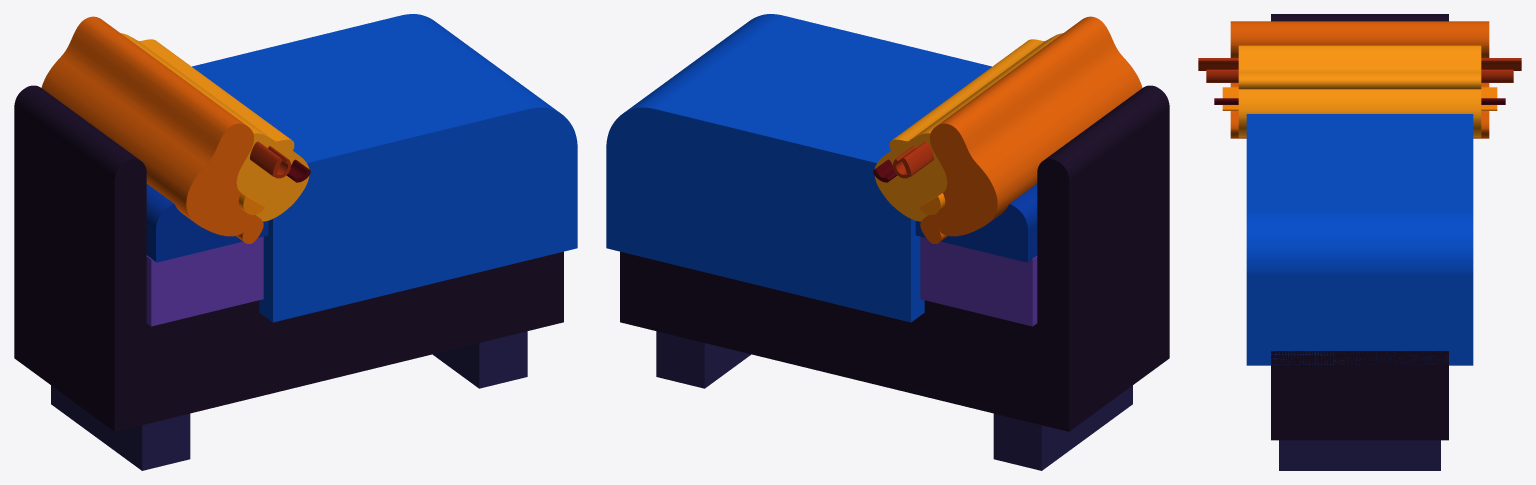
The picture shows the model from 3 angles, left to right: view 1: azimuth 30°, elevation 25°; view 2: azimuth 150°, elevation 25°; view 3: azimuth 270°, elevation 25°; orthographic projection. The views are drawn at different scales.
Visible parts, largest first — view 1: U+1F6CC_layer04_obj00, U+1F6CC_layer01_obj00, U+1F6CC_layer06_obj00, U+1F6CC_layer00_obj00, U+1F6CC_layer02_obj00, U+1F6CC_layer05_obj00, U+1F6CC_layer03_obj00, U+1F6CC_layer10_obj00; view 2: U+1F6CC_layer04_obj00, U+1F6CC_layer01_obj00, U+1F6CC_layer06_obj00, U+1F6CC_layer00_obj00, U+1F6CC_layer02_obj00, U+1F6CC_layer05_obj00, U+1F6CC_layer03_obj00, U+1F6CC_layer10_obj00; view 3: U+1F6CC_layer04_obj00, U+1F6CC_layer01_obj00, U+1F6CC_layer05_obj00, U+1F6CC_layer06_obj00, U+1F6CC_layer00_obj00, U+1F6CC_layer10_obj00, U+1F6CC_layer09_obj00, U+1F6CC_layer07_obj00, U+1F6CC_layer08_obj00.
Part boxes in pixels (left/top/right/bottom): U+1F6CC_layer04_obj00: left=192, top=14, right=577, bottom=322; U+1F6CC_layer01_obj00: left=14, top=85, right=563, bottom=431; U+1F6CC_layer06_obj00: left=41, top=16, right=263, bottom=243; U+1F6CC_layer00_obj00: left=51, top=331, right=527, bottom=470; U+1F6CC_layer02_obj00: left=146, top=236, right=263, bottom=326; U+1F6CC_layer05_obj00: left=121, top=33, right=309, bottom=221; U+1F6CC_layer03_obj00: left=146, top=184, right=268, bottom=262; U+1F6CC_layer10_obj00: left=250, top=141, right=282, bottom=176; U+1F6CC_layer04_obj00: left=606, top=14, right=991, bottom=322; U+1F6CC_layer01_obj00: left=620, top=85, right=1169, bottom=431; U+1F6CC_layer06_obj00: left=920, top=16, right=1142, bottom=243; U+1F6CC_layer00_obj00: left=656, top=331, right=1132, bottom=470; U+1F6CC_layer02_obj00: left=920, top=236, right=1037, bottom=326; U+1F6CC_layer05_obj00: left=874, top=33, right=1062, bottom=221; U+1F6CC_layer03_obj00: left=915, top=184, right=1037, bottom=262; U+1F6CC_layer10_obj00: left=901, top=141, right=933, bottom=176; U+1F6CC_layer04_obj00: left=1246, top=114, right=1473, bottom=365; U+1F6CC_layer01_obj00: left=1271, top=14, right=1448, bottom=440; U+1F6CC_layer05_obj00: left=1238, top=45, right=1481, bottom=137; U+1F6CC_layer06_obj00: left=1230, top=21, right=1489, bottom=138; U+1F6CC_layer00_obj00: left=1279, top=440, right=1440, bottom=470; U+1F6CC_layer10_obj00: left=1198, top=58, right=1521, bottom=70; U+1F6CC_layer09_obj00: left=1206, top=69, right=1513, bottom=82; U+1F6CC_layer07_obj00: left=1222, top=87, right=1497, bottom=110; U+1F6CC_layer08_obj00: left=1214, top=98, right=1505, bottom=104.
Bounding box in the file's own units: 0.5678 × 0.4238 × 0.4.
